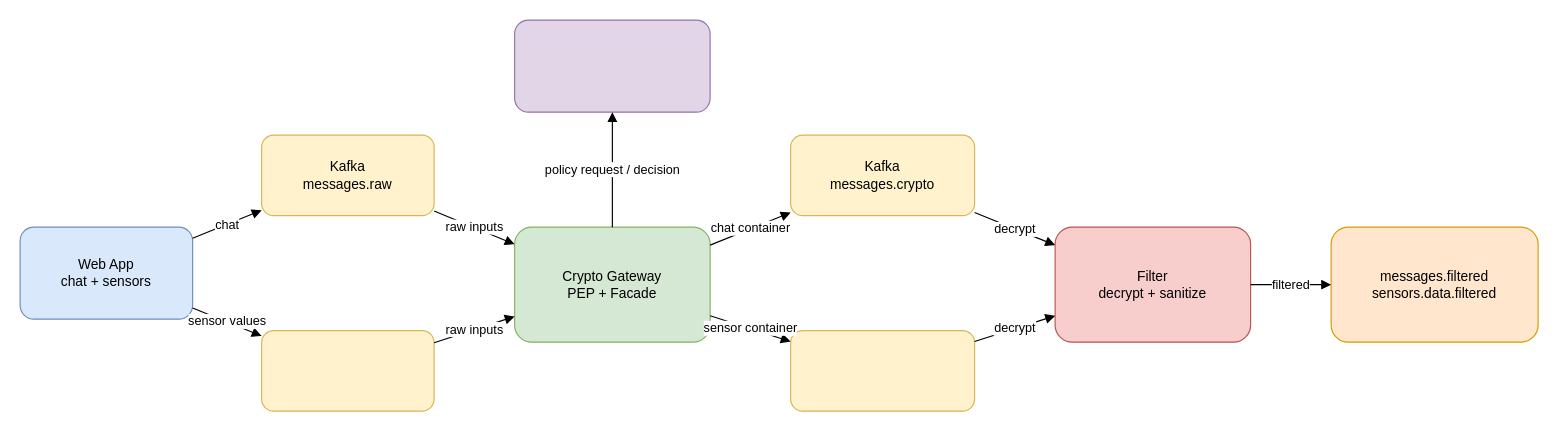
This 1558x431 diagram has some shape labels left out. The box of each missing label's shape, as (x1, y1, x2, y2) in pixels:
Kafka sensors.crypto: (789, 329, 975, 411)
Kafka sensors.raw: (260, 329, 434, 411)
Policy Engine PDP: (513, 19, 710, 112)
